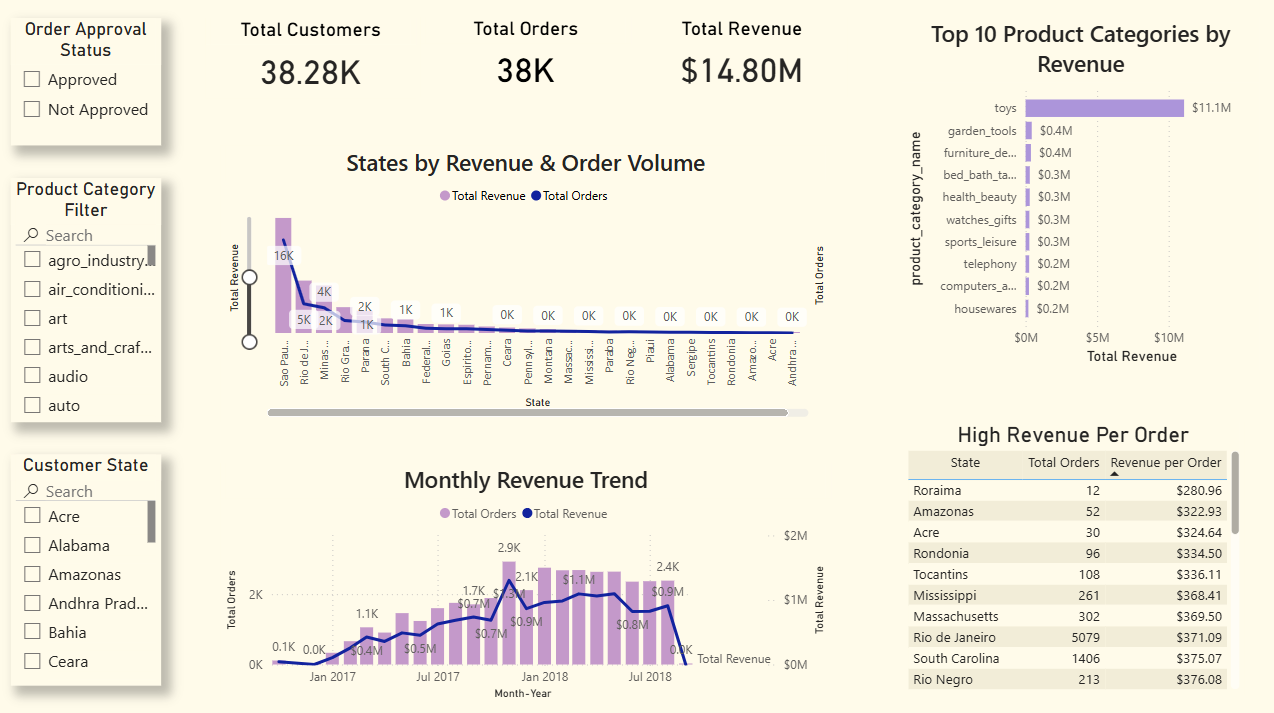

The page's visual inventory and layout, read from the dashboard file:
{"tool":"powerbi","page":{"name":"Page 1","canvas":[1280,720],"ordinal":0},"visuals":[{"type":"card","title":"Total Orders","fields":{"Values":["Customers.Total Orders"]},"box":[423.8,20,210,80],"z":0},{"type":"card","title":"Total Customers","fields":{"Values":["Customers.Total Customers"]},"box":[208.8,21.2,210,80],"z":1000},{"type":"card","title":"Total Revenue","fields":{"Values":["Customers.Total Revenue"]},"box":[640,20,210,80],"z":3000},{"type":"slicer","title":"Product Category Filter","fields":{"Values":["Products.product_category_name"]},"box":[13.8,181.2,150,243.8],"z":4000},{"type":"slicer","title":"Order Approval Status","fields":{"Values":["Orders.Approval_Status"]},"box":[13.8,21.2,150,127.5],"z":5000},{"type":"slicer","title":"Customer State","fields":{"Values":["state names.State"]},"box":[13.8,457.5,150,231.2],"z":6000},{"type":"lineStackedColumnComboChart","title":"Monthly Revenue Trend","fields":{"Category":["Orders.Month_Year"],"Y2":["Customers.Total Revenue"],"Y":["Customers.Total Orders"]},"box":[223.8,466.2,610,241.2],"z":7000},{"type":"clusteredBarChart","title":"Top 10 Product Categories by Revenue","fields":{"Category":["Products.product_category_name"],"Y":["Customers.Total Revenue"]},"box":[905,20,357.5,352.5],"z":8000},{"type":"lineStackedColumnComboChart","title":"States by Revenue & Order Volume","fields":{"Category":["state names.State"],"Y":["Customers.Total Revenue"],"Y2":["Customers.Total Orders"]},"box":[223.8,148.8,610,276.2],"z":9000},{"type":"tableEx","title":"High Revenue Per Order","fields":{"Values":["state names.State","Customers.Total Orders","state names.Revenue per Order"]},"box":[905,425,342.5,272.5],"z":9001}]}

Visuals, with their boxes in screenshot pixels (x1, y1, x2, y2), scaled from the page's 1280x720 canvas onto the 1274x713 screenshot:
"Total Orders" card: pyautogui.locateOnScreen(422, 20, 631, 99)
"Total Customers" card: pyautogui.locateOnScreen(208, 21, 417, 100)
"Total Revenue" card: pyautogui.locateOnScreen(637, 20, 846, 99)
"Product Category Filter" slicer: pyautogui.locateOnScreen(14, 179, 163, 421)
"Order Approval Status" slicer: pyautogui.locateOnScreen(14, 21, 163, 147)
"Customer State" slicer: pyautogui.locateOnScreen(14, 453, 163, 682)
"Monthly Revenue Trend" lineStackedColumnComboChart: pyautogui.locateOnScreen(223, 462, 830, 701)
"Top 10 Product Categories by Revenue" clusteredBarChart: pyautogui.locateOnScreen(901, 20, 1257, 369)
"States by Revenue & Order Volume" lineStackedColumnComboChart: pyautogui.locateOnScreen(223, 147, 830, 421)
"High Revenue Per Order" tableEx: pyautogui.locateOnScreen(901, 421, 1242, 691)
